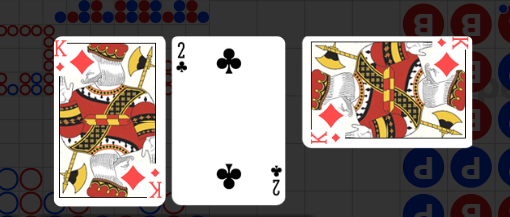2C: (269, 163, 282, 197)
